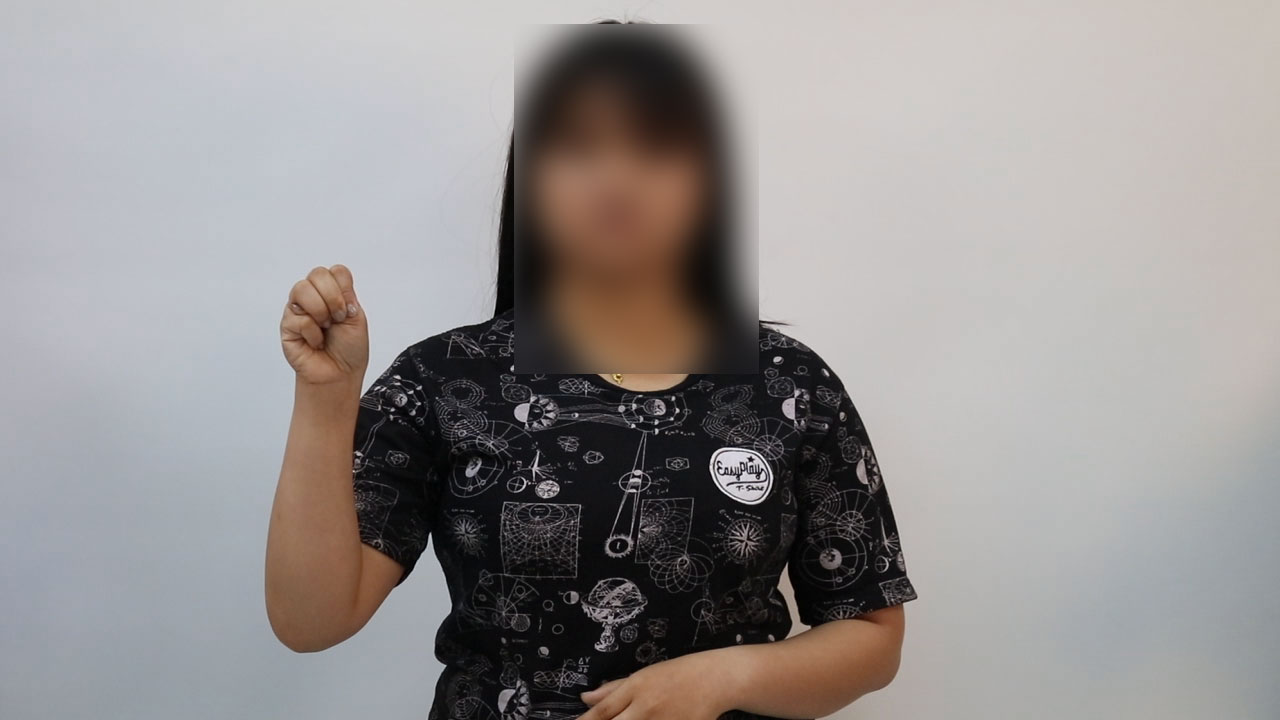mor: (263, 248, 386, 399)
